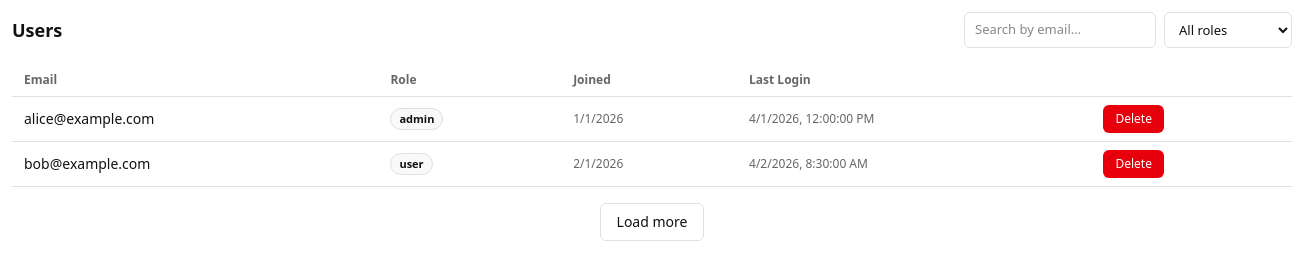
Scenario: UsersPanel › loads more users on button click
Click the button "Load more". click: (652, 222)
box: [600,203,704,241]
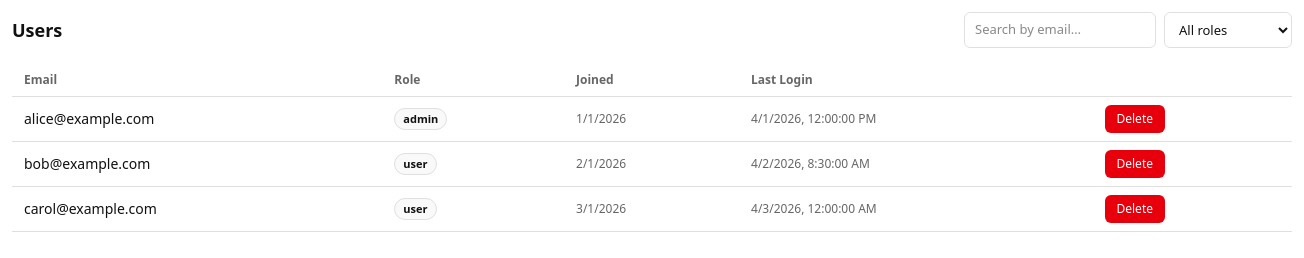
Now the text "carol@example.com" is shown, box [12,186,382,232]
